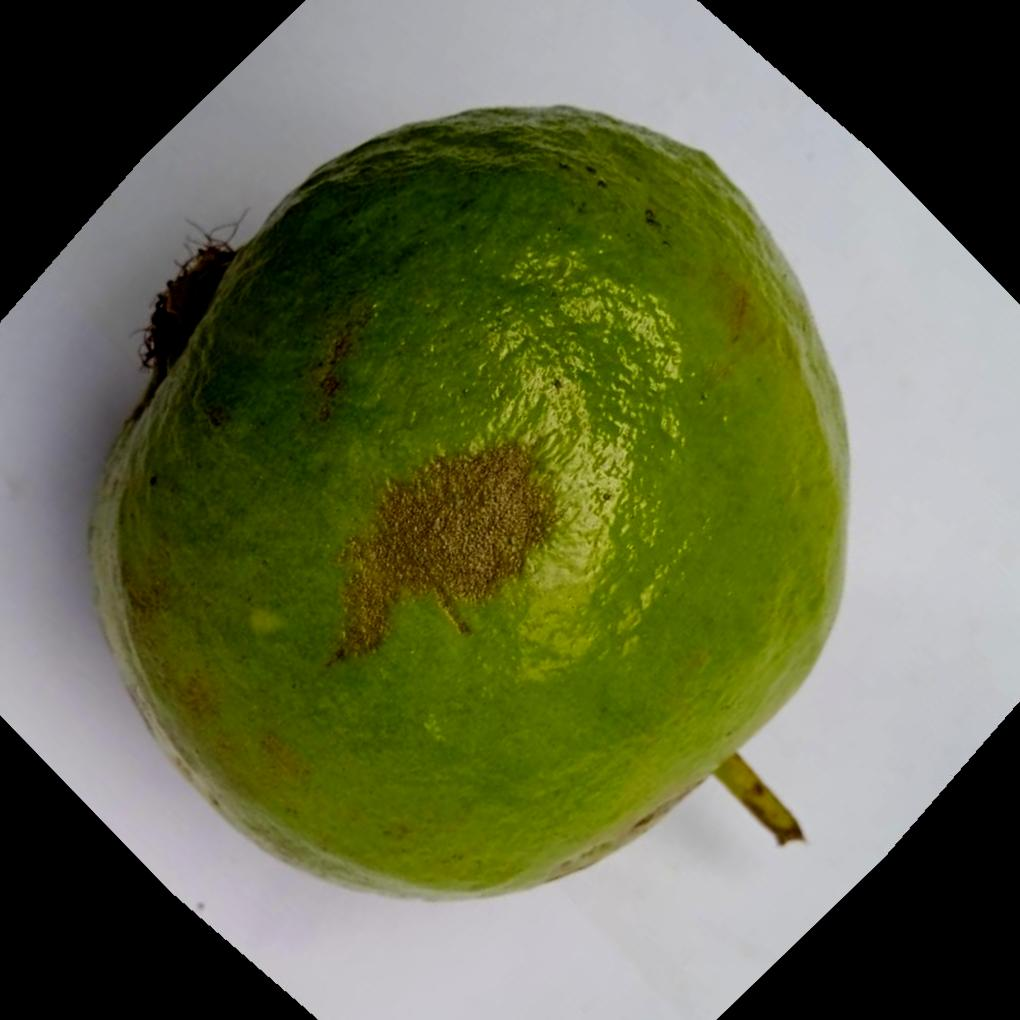FreshGuava: (84, 100, 850, 900)
